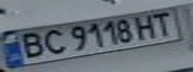1: (84, 19, 106, 47), (100, 17, 121, 45)
8: (115, 15, 136, 43)
9: (66, 21, 87, 52)
B: (12, 29, 48, 61)
C: (36, 26, 69, 56)
H: (130, 11, 160, 39)
T: (148, 9, 175, 36)
